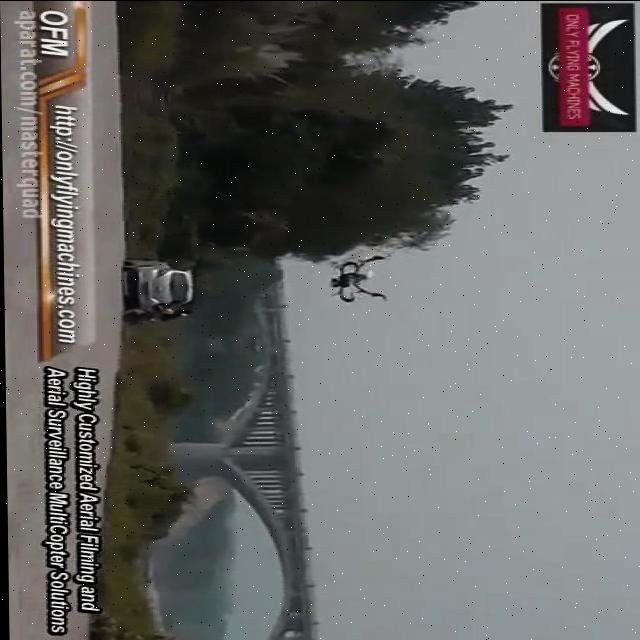drone: (334, 253, 397, 305)
